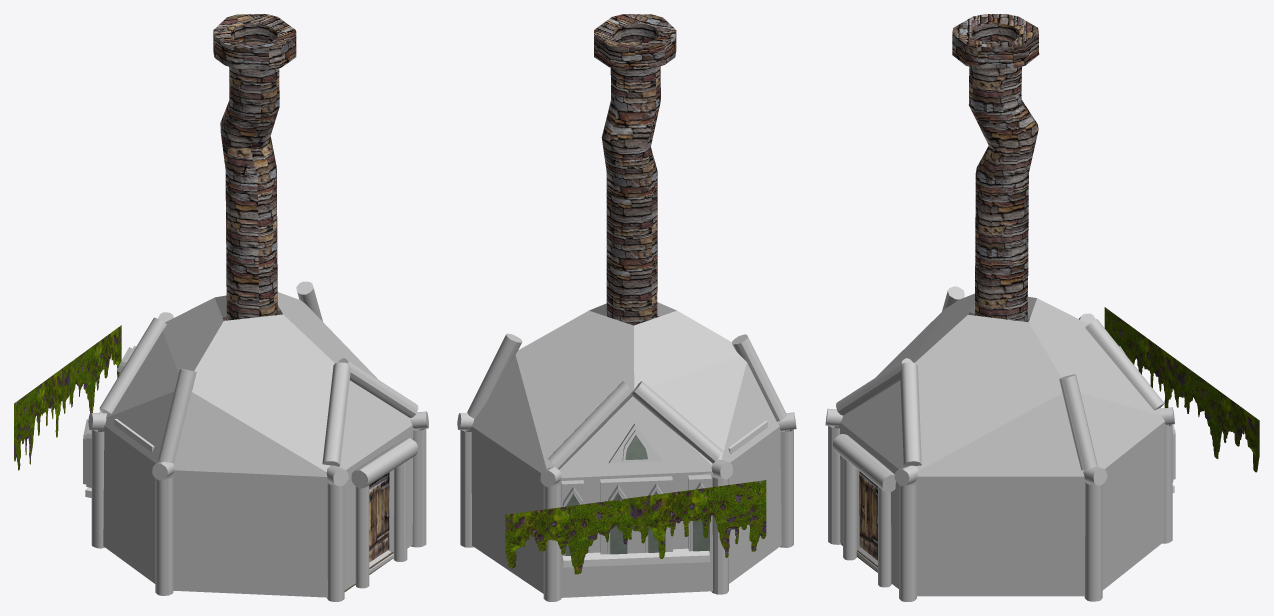
Rendered from room 1.fbx.
The picture shows the model from 3 angles, left to right: view 1: azimuth 30°, elevation 25°; view 2: azimuth 150°, elevation 25°; view 3: azimuth 270°, elevation 25°; orthographic projection.
Parts seen in each view (by area): view 1: Plane, Circle.020, Plane.001, Plane.005, Plane.003; view 2: Plane, Plane.001, Circle.020, Plane.005, Cube, Plane.006; view 3: Plane, Circle.020, Plane.001, Plane.005, Plane.003.
Part boxes in pixels (bbox=[...]): Plane: bbox=[83, 292, 418, 597]; Circle.020: bbox=[88, 281, 428, 601]; Plane.001: bbox=[213, 14, 296, 320]; Plane.005: bbox=[14, 325, 121, 470]; Plane.003: bbox=[369, 472, 389, 562]; Plane: bbox=[466, 302, 784, 597]; Plane.001: bbox=[594, 14, 676, 325]; Circle.020: bbox=[457, 333, 796, 601]; Plane.005: bbox=[505, 480, 766, 574]; Cube: bbox=[562, 548, 709, 567]; Plane.006: bbox=[565, 435, 709, 555]; Plane: bbox=[834, 293, 1175, 596]; Circle.020: bbox=[825, 286, 1174, 601]; Plane.001: bbox=[952, 14, 1039, 322]; Plane.005: bbox=[1104, 307, 1259, 472]; Plane.003: bbox=[859, 471, 877, 560].
Bounding box in the file's own units: 5683 × 8735 × 6746.
